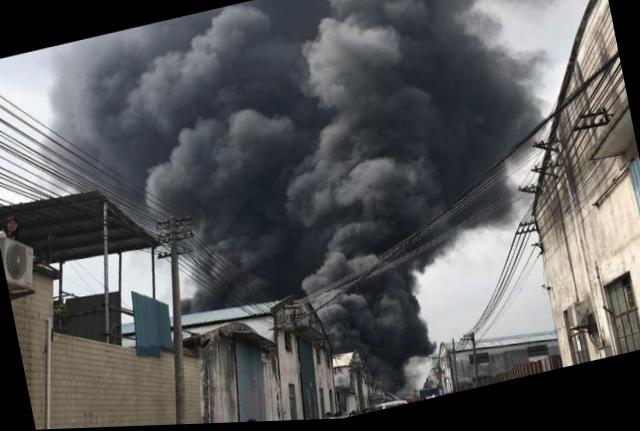smoke: (275, 53, 396, 161), (324, 274, 440, 383), (39, 26, 165, 124), (170, 80, 288, 184), (154, 1, 283, 95), (294, 141, 424, 231), (383, 31, 494, 135), (42, 104, 173, 188), (206, 222, 310, 310), (308, 214, 418, 297), (273, 0, 395, 71), (478, 22, 560, 123), (192, 166, 298, 244), (411, 185, 522, 253), (419, 123, 518, 199), (384, 0, 498, 45), (130, 163, 188, 220), (488, 0, 596, 14)
